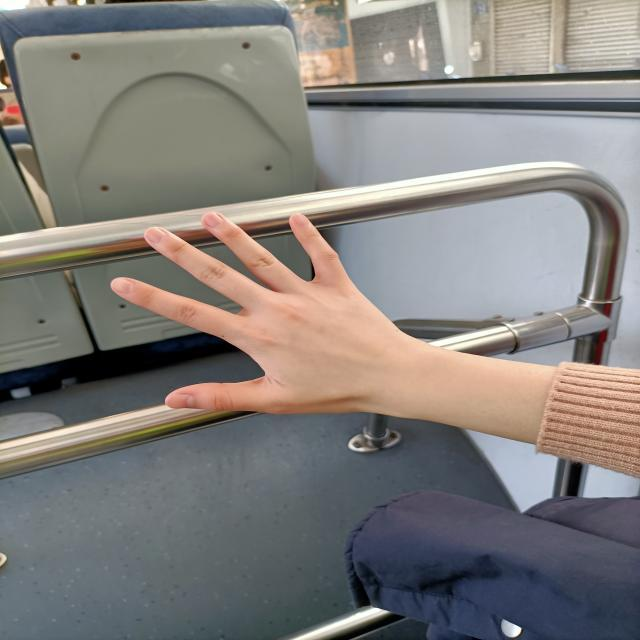no-gloves: (108, 210, 396, 418)
